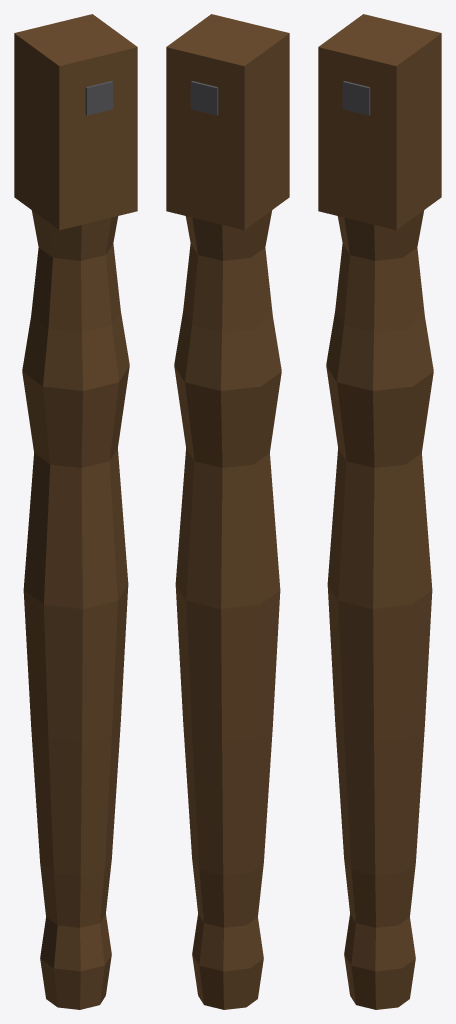
Rendered from table-leg.glb.
3 renders of one model, left to right at view 1: azimuth 30°, elevation 25°; view 2: azimuth 150°, elevation 25°; view 3: azimuth 330°, elevation 25°, orthographic.
Parts seen in each view (by area): view 1: table_leg; view 2: table_leg; view 3: table_leg.
Boxes of the visible parts, x1,y1,x2,y2 form: table_leg: (14, 14, 137, 1009); table_leg: (166, 14, 289, 1009); table_leg: (318, 14, 441, 1009).
Size of the model in its own units: 0.0665 by 0.7 by 0.0665.
